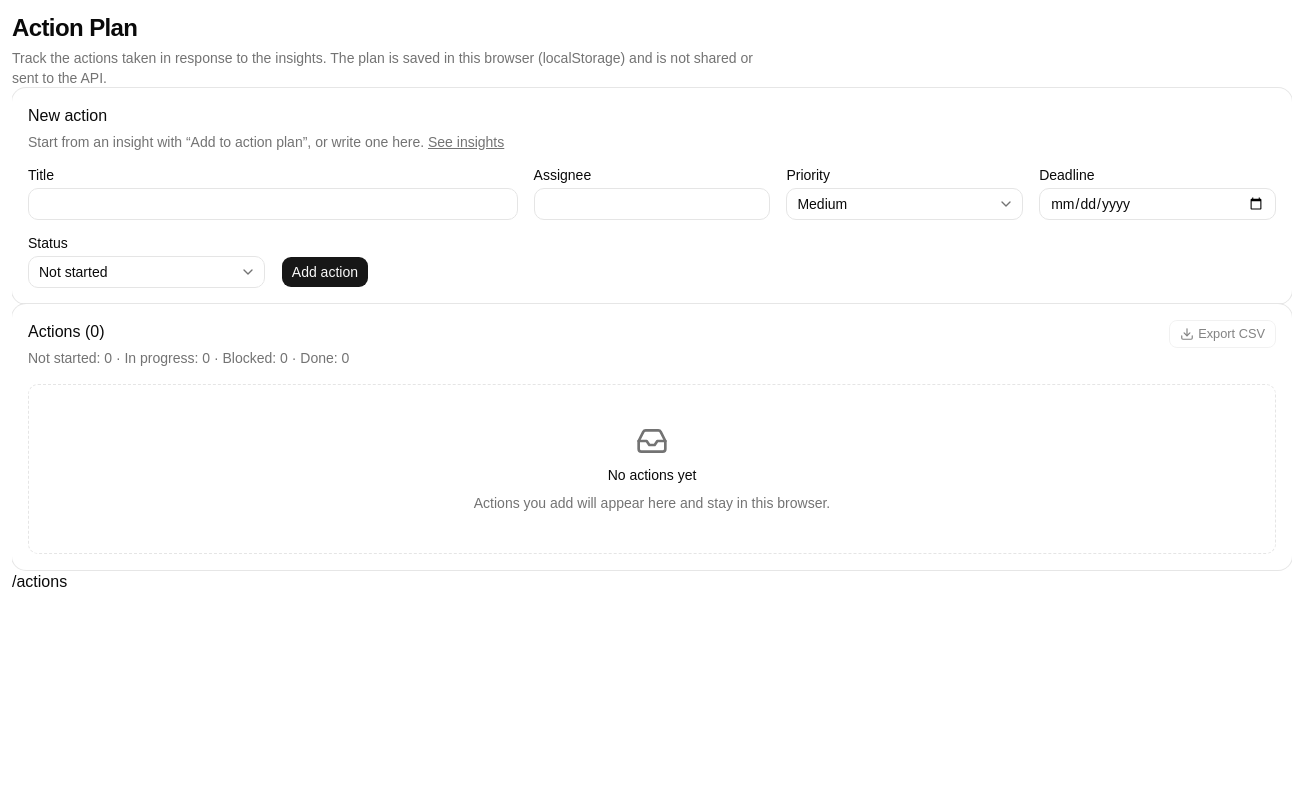
Test: ActionPlanPage › adds an action and keeps it in localStorage
Click the button "Add action" at (325, 272), box left=281, top=256, right=369, bottom=288
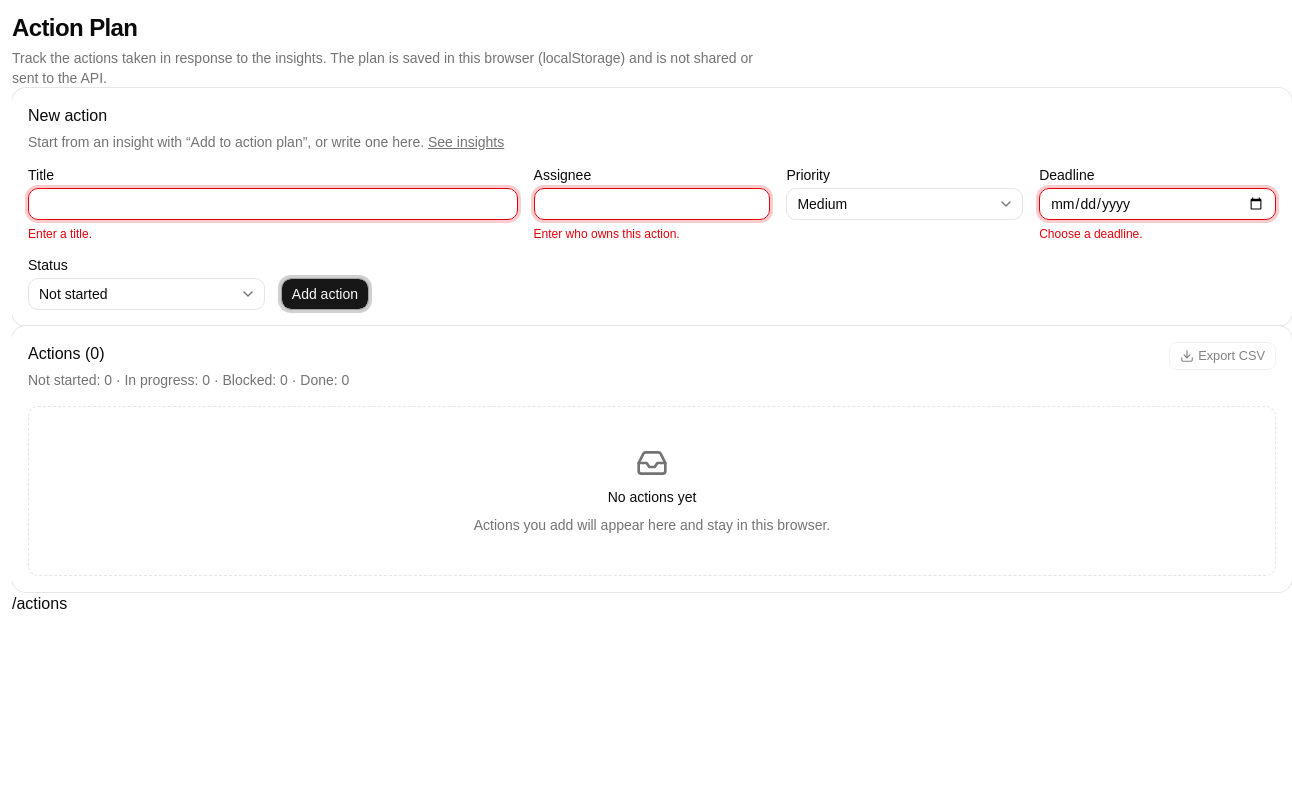
Check: the text "Enter a title." is shown, box left=28, top=227, right=92, bottom=241
Type "Audit Tables discounts" into the field labelled "Title" at (273, 204), box left=28, top=188, right=518, bottom=220
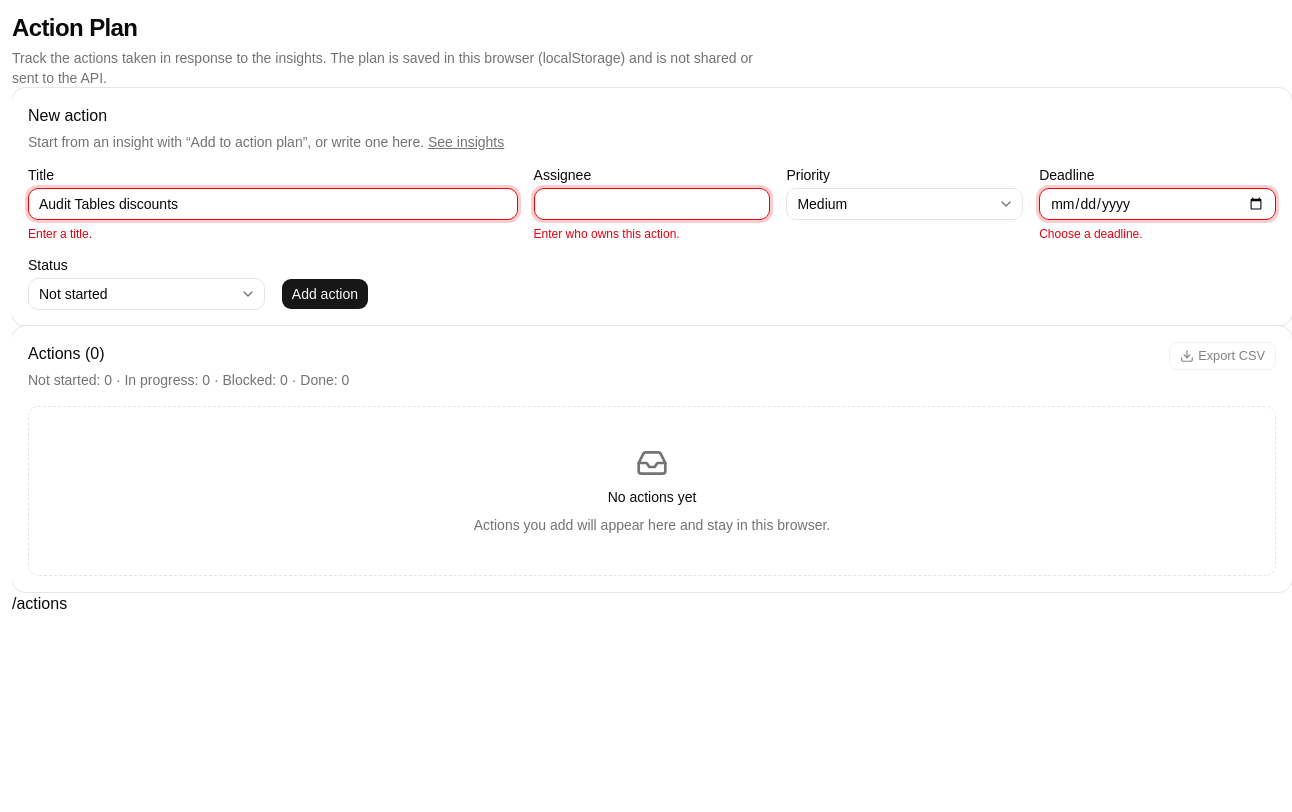
Type "Furniture category manager" into the field labelled "Assignee" at (652, 204), box left=534, top=188, right=770, bottom=220
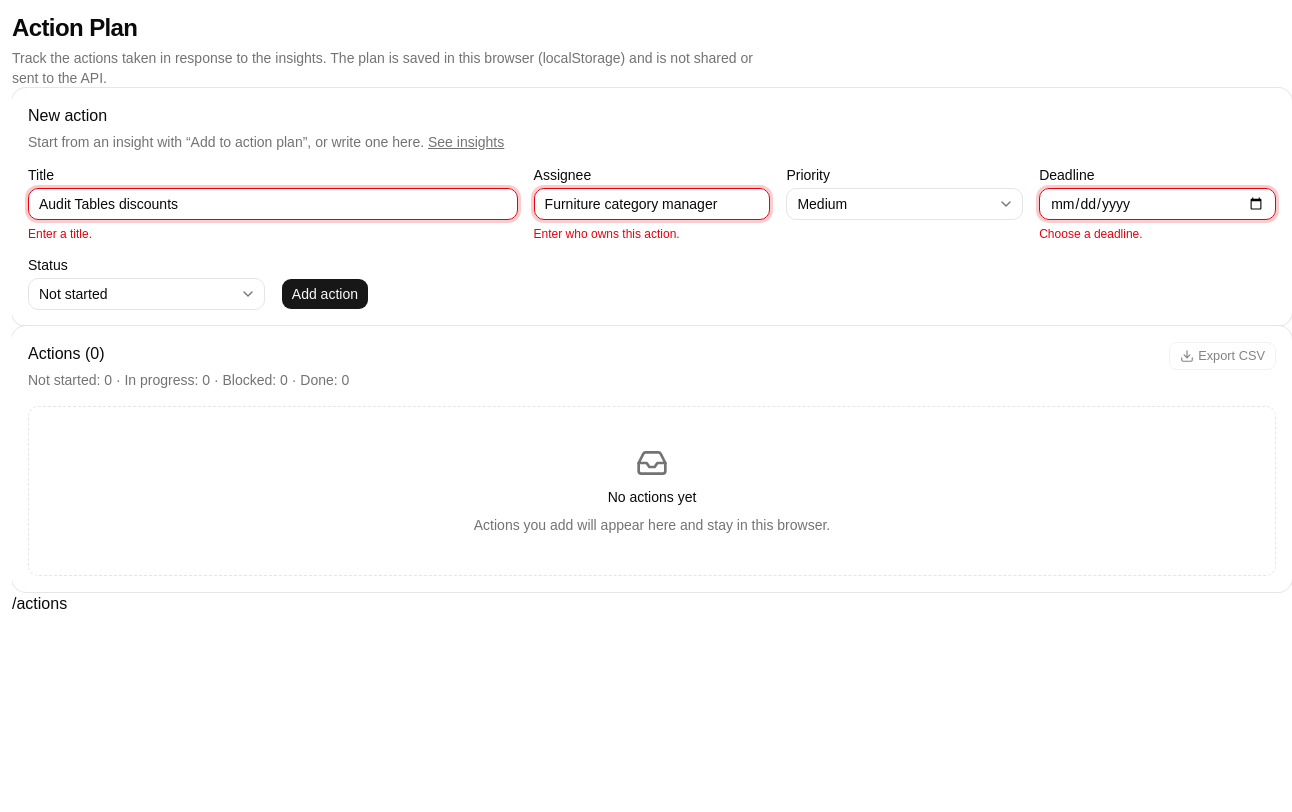
Type "2026-12-15" into the date field labelled "Deadline" at (1158, 204), box left=1039, top=188, right=1276, bottom=220
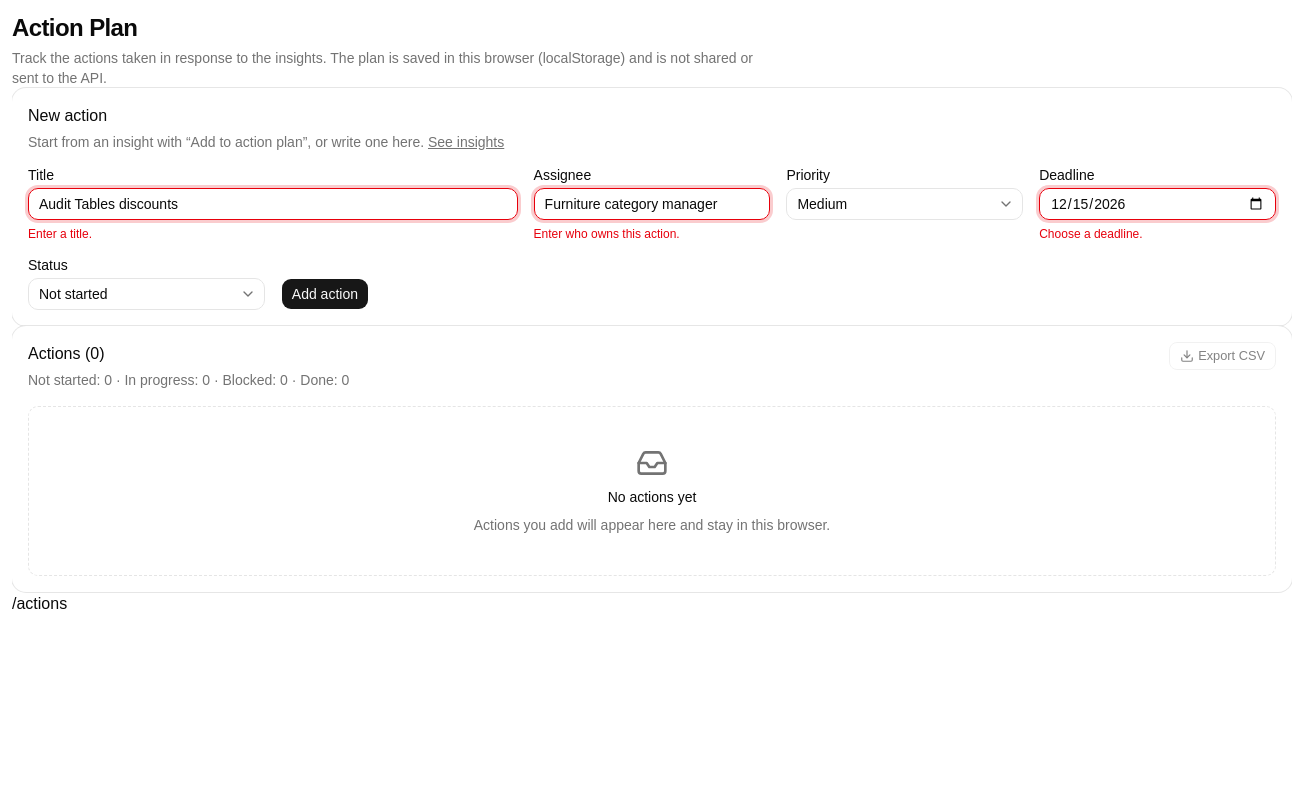
Click the button "Add action" at (325, 294), box left=281, top=278, right=369, bottom=310
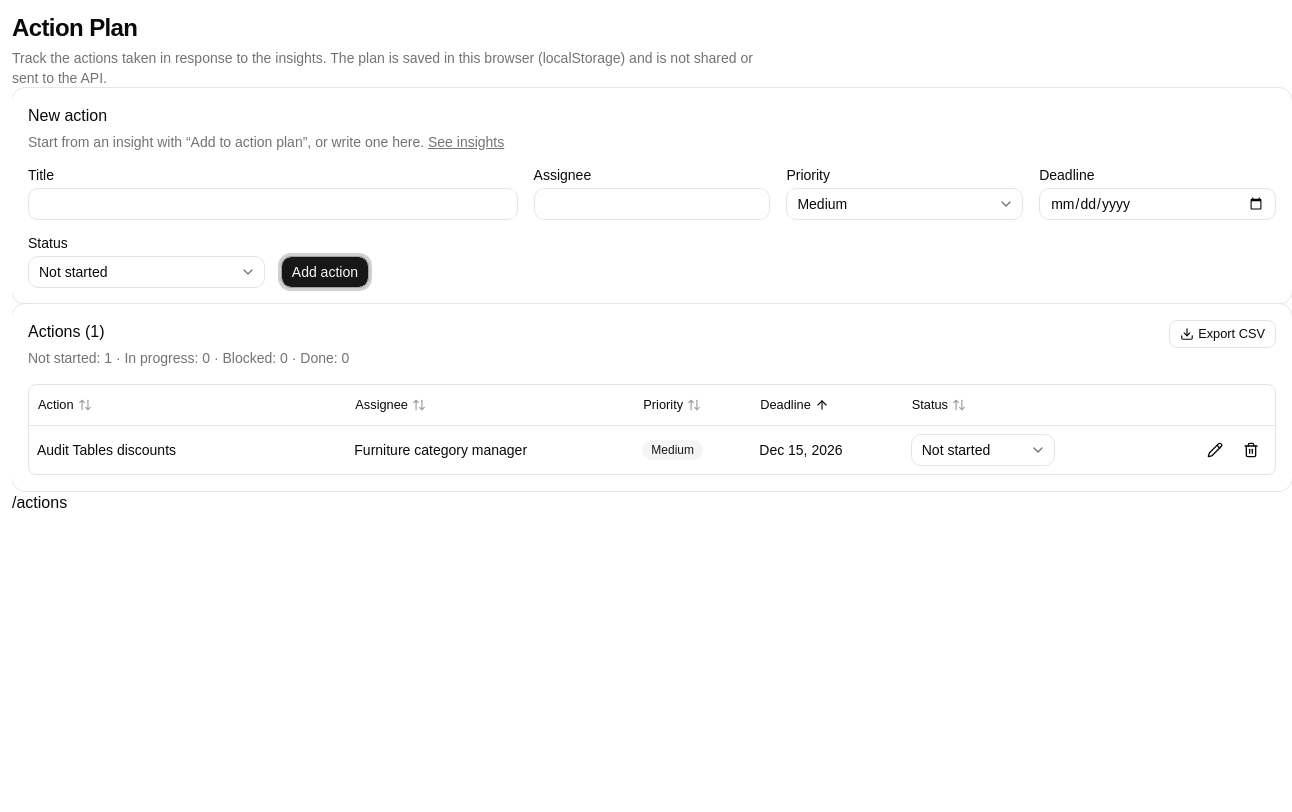
Check: the text "Audit Tables discounts" is shown, box left=37, top=442, right=176, bottom=458
